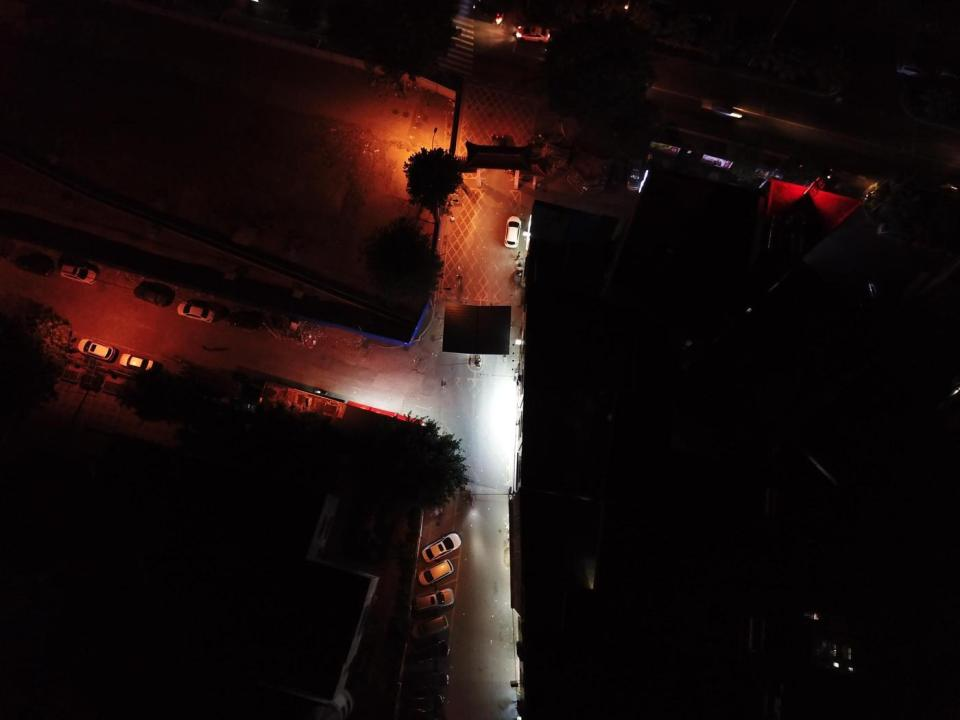car: (422, 532, 462, 563), (412, 614, 449, 642), (414, 588, 455, 613), (418, 558, 454, 586), (77, 338, 116, 363), (414, 639, 450, 666), (60, 263, 97, 285), (17, 254, 54, 276), (405, 694, 445, 714), (177, 302, 215, 323), (411, 670, 450, 690), (133, 284, 168, 306), (119, 353, 154, 374), (515, 25, 552, 43), (230, 312, 265, 331), (504, 216, 521, 248), (488, 135, 506, 161)
